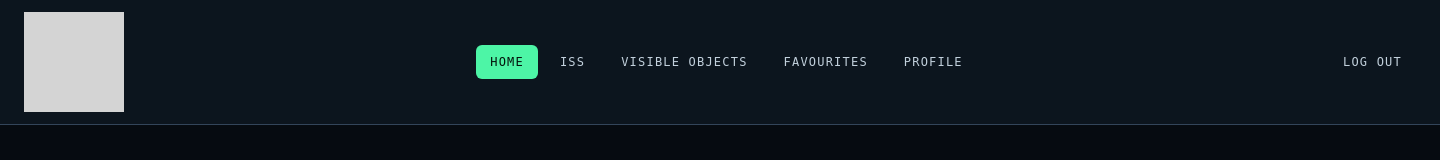
Navbar Component › when logging out › switches to the logged out state after clicking log out
This screenshot has width=1440, height=160.
// click logout
What coordinates should you click on to do the following:
click the button "Log out"
I would click on:
 (1372, 62)
Its box is [1329, 48, 1416, 76].
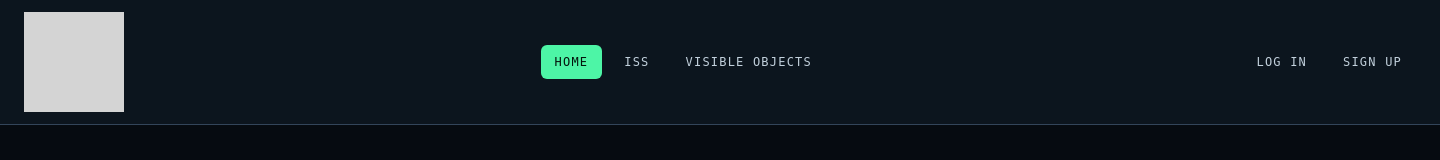
expect the link "Log In" is shown: met, box [1256, 55, 1307, 69]
expect the link "Sign Up" is shown: met, box [1343, 55, 1402, 69]
